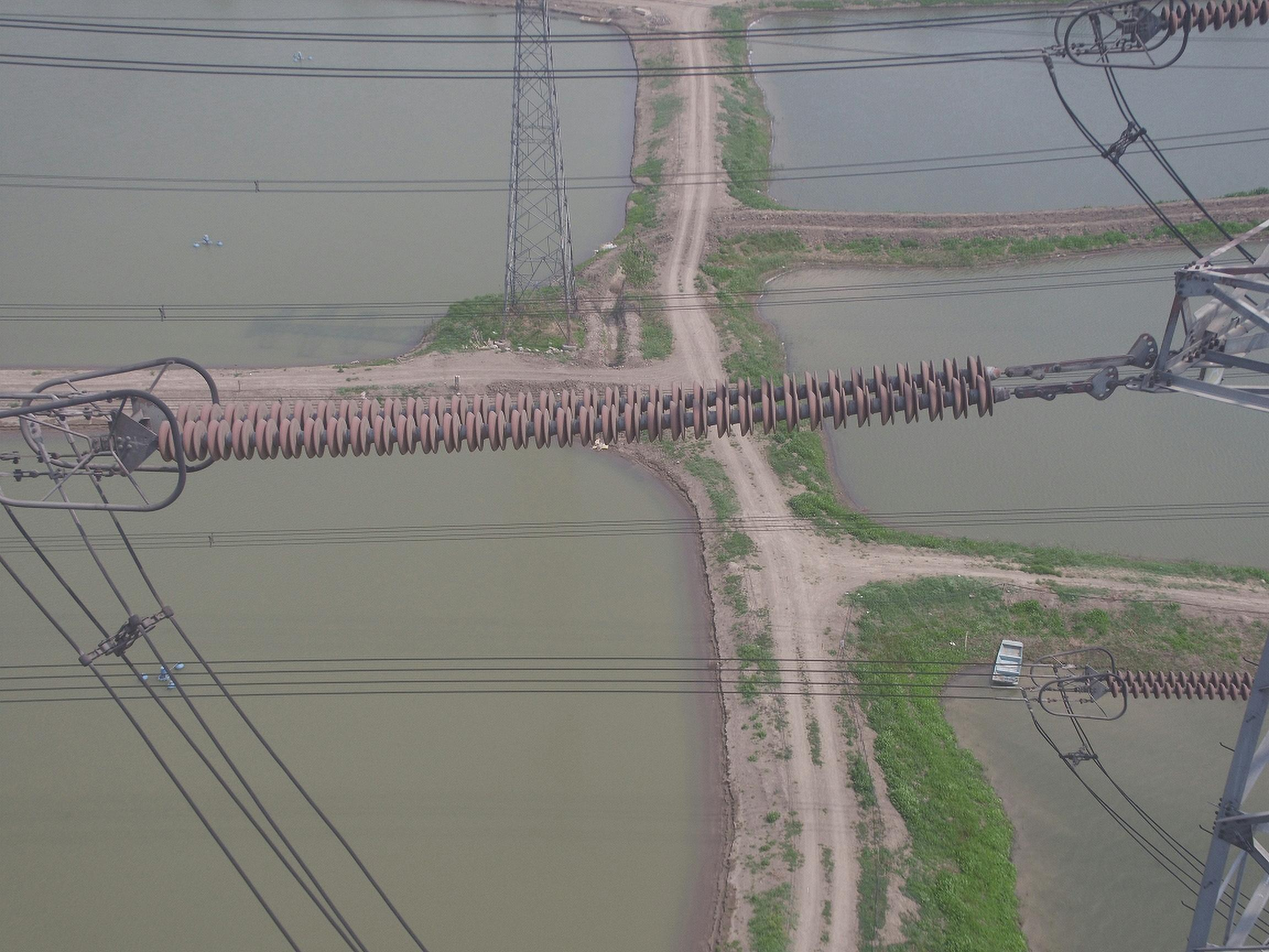insulator: (151, 350, 1000, 466), (1100, 665, 1254, 704), (1156, 1, 1269, 41)
